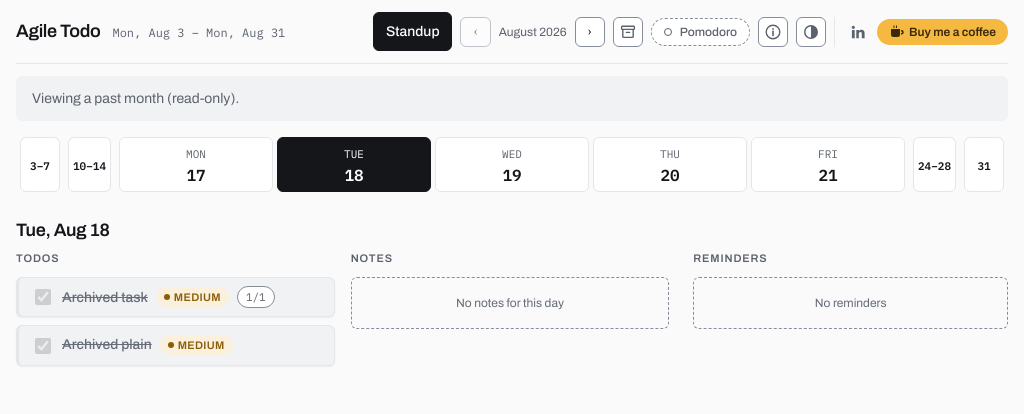
todo checklists › read-only history: checkboxes disabled, no add/remove/Add-checklist UI
// The counter still renders and expands — disclosure is not a mutation.
Click the button named "1/1 checklist items done" at (256, 297), box [237,286,275,308]
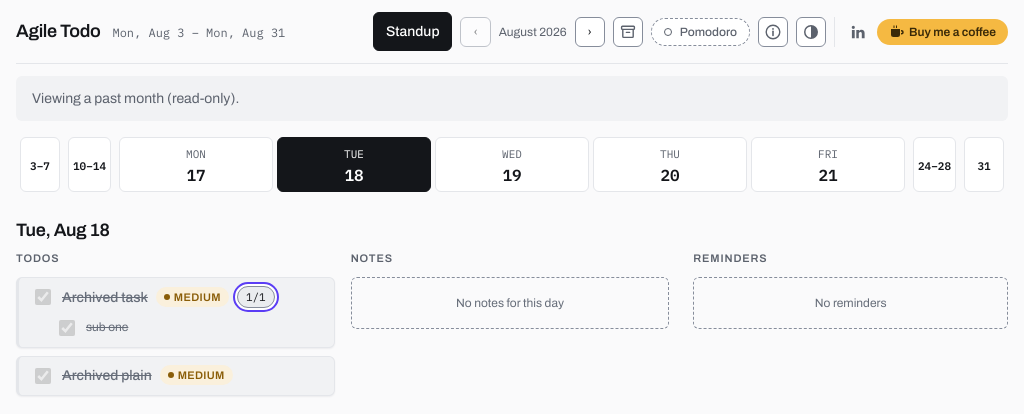
Result: the checkbox labelled "sub one" is disabled at [59,320,75,336]
